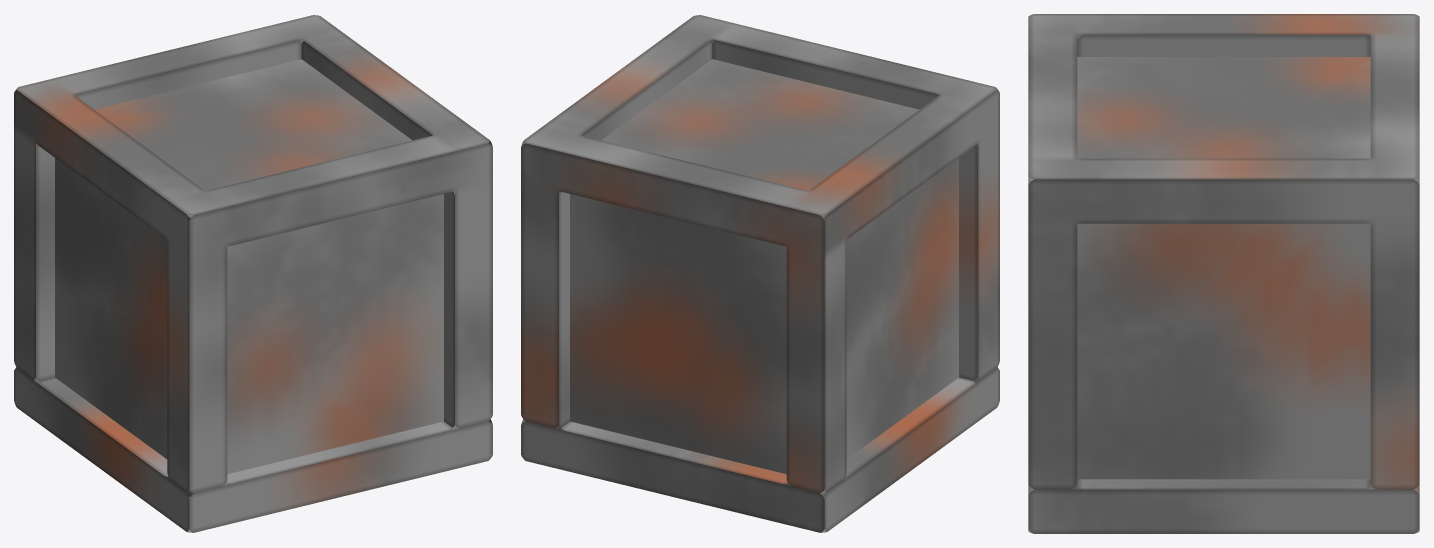
The picture shows the model from 3 angles, left to right: view 1: azimuth 30°, elevation 25°; view 2: azimuth 150°, elevation 25°; view 3: azimuth 270°, elevation 25°; orthographic projection. The views are drawn at different scales.
Visible parts, largest first — view 1: cuboid_1, cuboid; view 2: cuboid_1, cuboid; view 3: cuboid, cuboid_1.
Part boxes in pixels (box(x1,y1,x2,y2)): cuboid_1: box(14, 15, 492, 532); cuboid: box(55, 59, 458, 496); cuboid_1: box(521, 15, 999, 532); cuboid: box(555, 59, 958, 496); cuboid: box(1072, 57, 1375, 489); cuboid_1: box(1028, 14, 1419, 533).
Bounding box in the file's own units: 100 × 100 × 100.
Materials: 1 (1 with a texture image).
